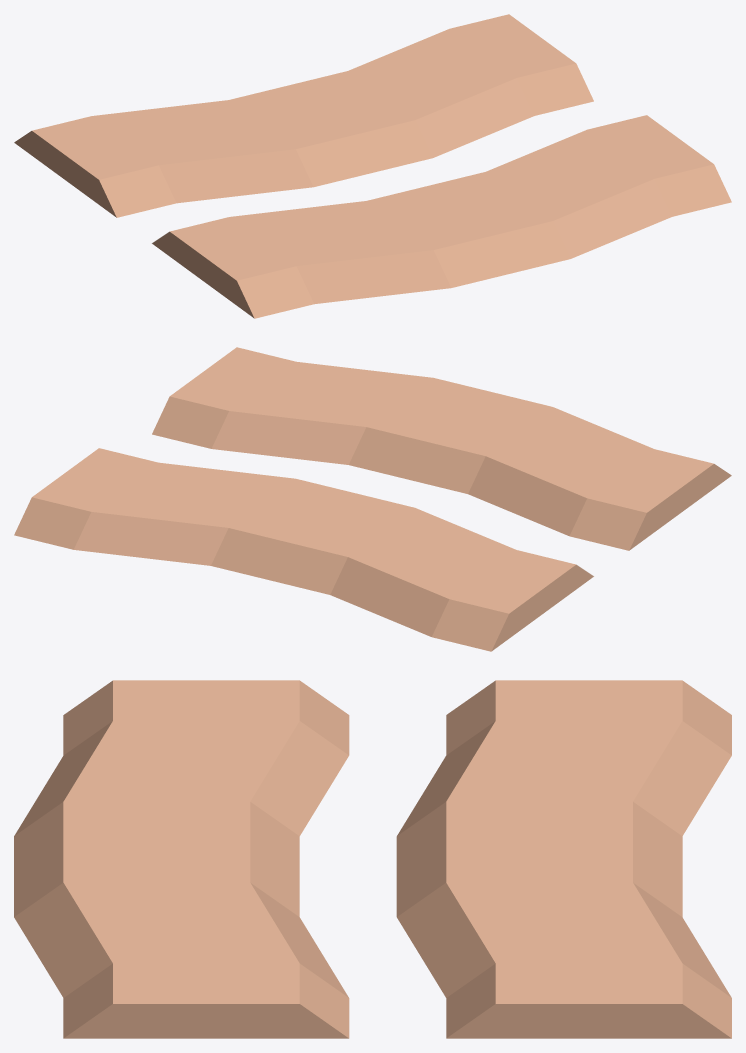
File: crops_dirtDoubleRow.glb
3 views of the same model, one above another, from view 1: azimuth 30°, elevation 25°; view 2: azimuth 150°, elevation 25°; view 3: azimuth 270°, elevation 25° (orthographic). The views are drawn at different scales.
Parts seen in each view (by area): view 1: crops_dirtDoubleRow; view 2: crops_dirtDoubleRow; view 3: crops_dirtDoubleRow.
Part boxes in pixels (box(x1,y1,x2,y2)): crops_dirtDoubleRow: box(14, 14, 731, 318); crops_dirtDoubleRow: box(14, 347, 731, 651); crops_dirtDoubleRow: box(14, 680, 731, 1038).
Bounding box in the file's own units: 1 × 0.05 × 0.938.
